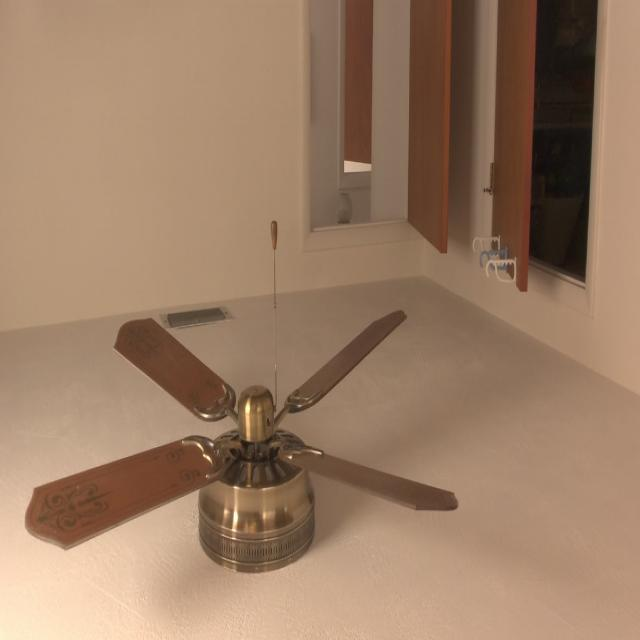Bulb: (24, 221, 458, 574)
